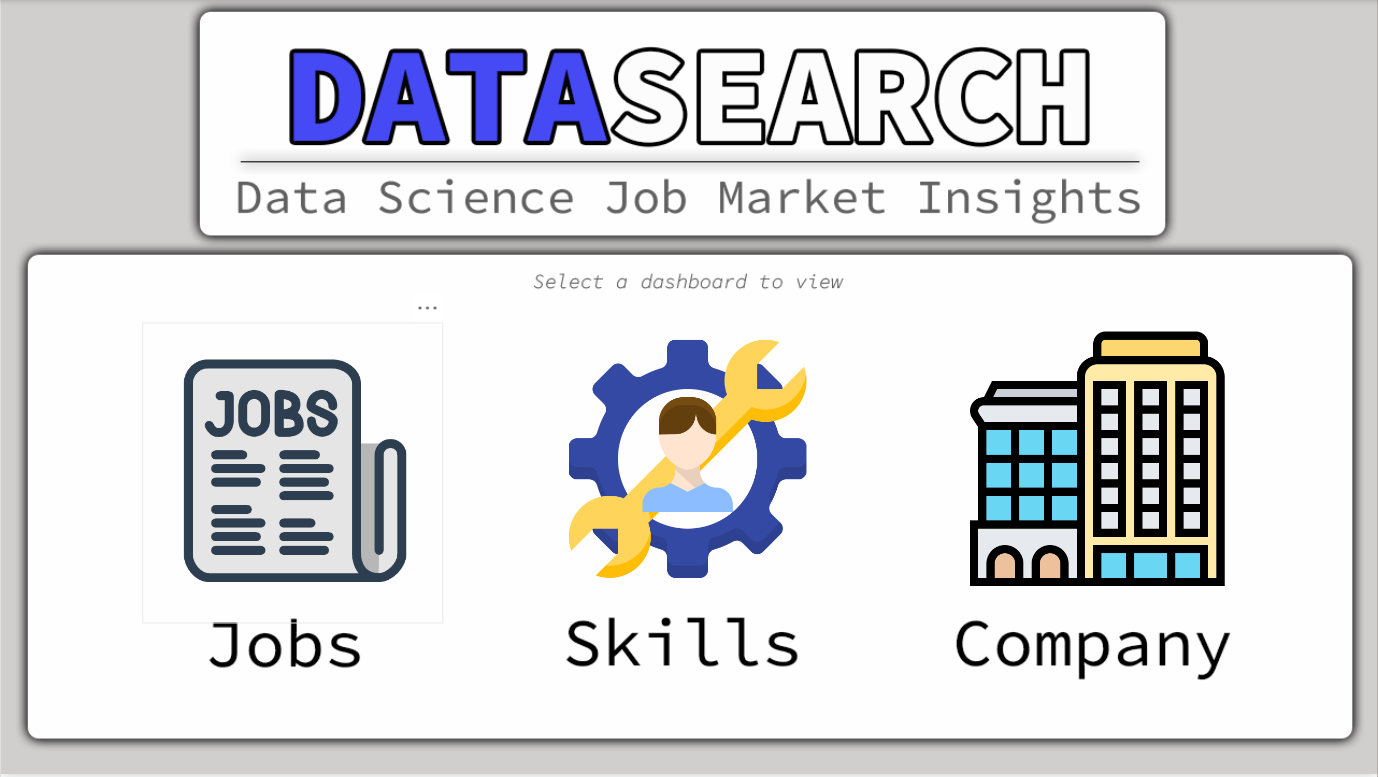

This screenshot's page, from the dashboard's own definition file:
{"tool":"powerbi","page":{"name":"Home","canvas":[1280,720],"ordinal":6},"visuals":[{"type":"image","box":[131,300,280.3,280.3],"z":0},{"type":"image","box":[502.8,300,273.2,253.5],"z":1000},{"type":"image","box":[893,300,253.5,253.5],"z":2000}]}

Visuals, with their boxes in screenshot pixels (x1, y1, x2, y2), scaled from the page's 1280x720 canvas onto the 1378x777 screenshot:
image: 141:324:443:626
image: 541:324:835:597
image: 961:324:1234:597
